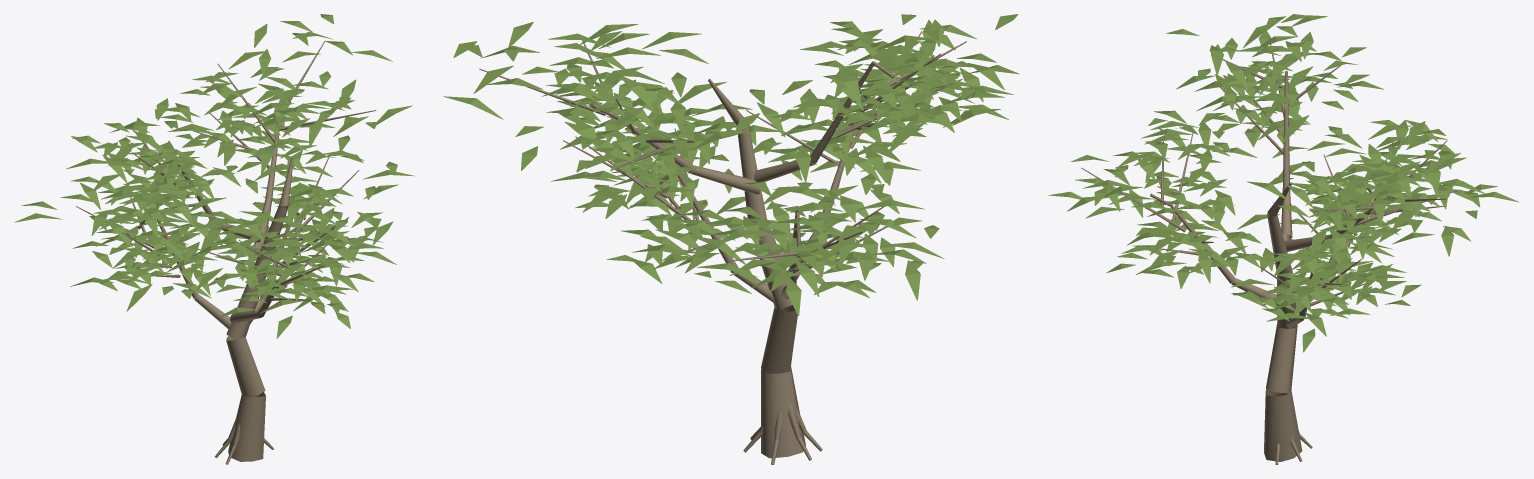
The model's file is small_tree_lod1.glb.
3 views of the same model, side by side, from view 1: azimuth 30°, elevation 25°; view 2: azimuth 150°, elevation 25°; view 3: azimuth 270°, elevation 25° (orthographic). The views are drawn at different scales.
Parts seen in each view (by area): view 1: Leaves, Bark; view 2: Leaves, Bark; view 3: Leaves, Bark.
Part boxes in pixels (x1=…): Leaves: x1=14, y1=14, x2=414, y2=338; Bark: x1=76, y1=40, x2=376, y2=464; Leaves: x1=443, y1=14, x2=1019, y2=315; Bark: x1=479, y1=31, x2=966, y2=464; Leaves: x1=1048, y1=14, x2=1518, y2=352; Bark: x1=1081, y1=37, x2=1456, y2=464.
Bounding box in the file's own units: 8.94 × 7.73 × 8.79.
